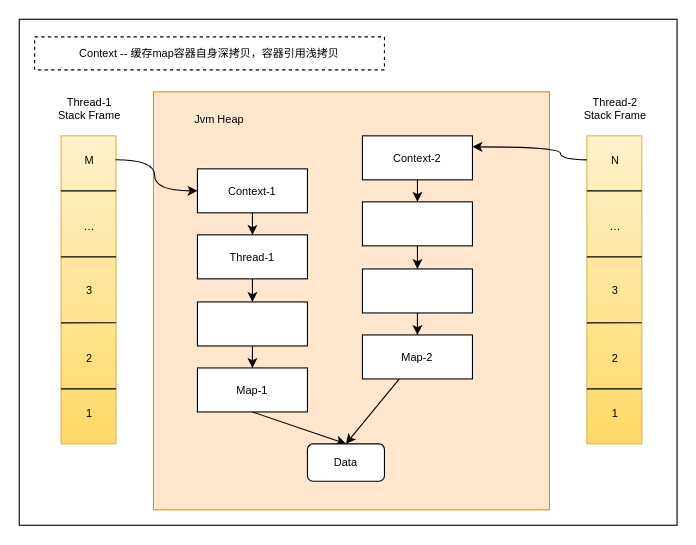
Image size: 696x545. Some labels were removed from this diagram. Each missing label, with the centre of its shape:
"Thread-2" goes at (416,223).
"ThreadLocalMap-1" goes at (251,323).
"ThreadLocalMap-2" goes at (416,290).
